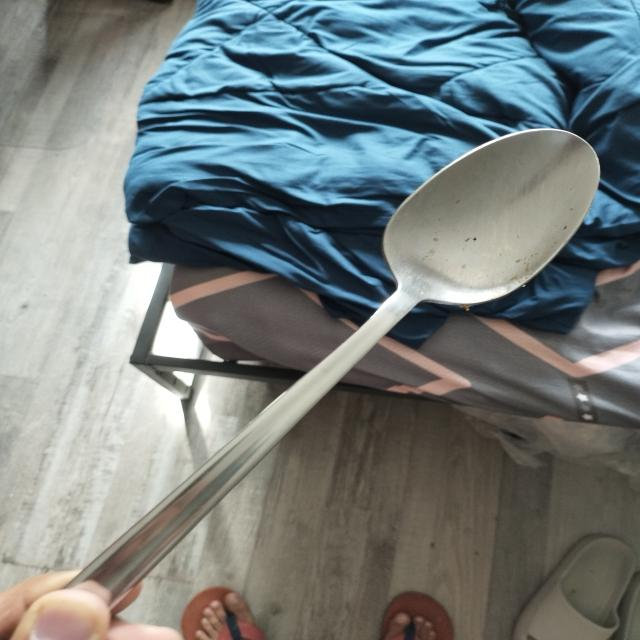Spoon: (92, 132, 615, 590)
